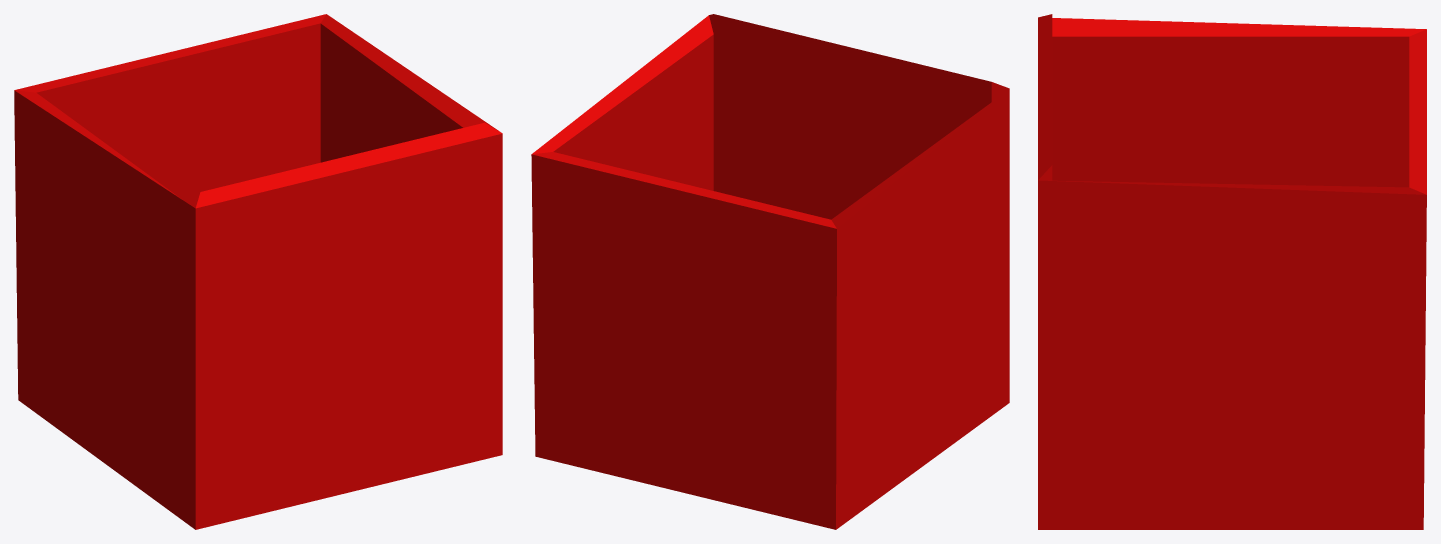
File: _asket.fbx
3 renders of one model, left to right at view 1: azimuth 30°, elevation 25°; view 2: azimuth 150°, elevation 25°; view 3: azimuth 270°, elevation 25°, orthographic. The views are drawn at different scales.
Parts seen in each view (by area): view 1: Cube; view 2: Cube; view 3: Cube.
Part boxes in pixels (left/top/right/bottom): Cube: left=14, top=14, right=502, bottom=529; Cube: left=531, top=14, right=1009, bottom=529; Cube: left=1038, top=14, right=1426, bottom=529.
Bounding box in the file's own units: 169 × 171 × 168.
